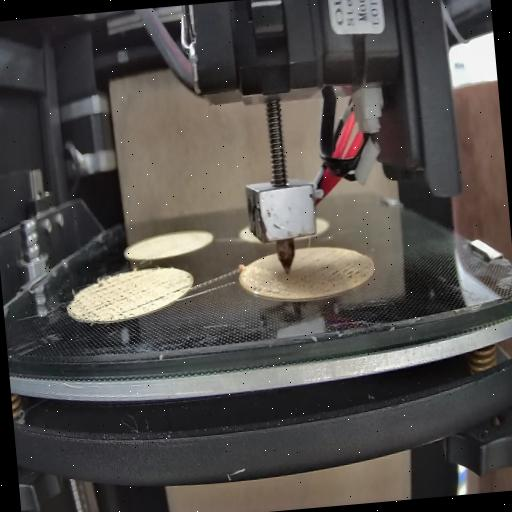under_extrusion: (69, 270, 167, 323), (296, 255, 372, 296), (249, 276, 283, 302), (172, 278, 192, 302)
